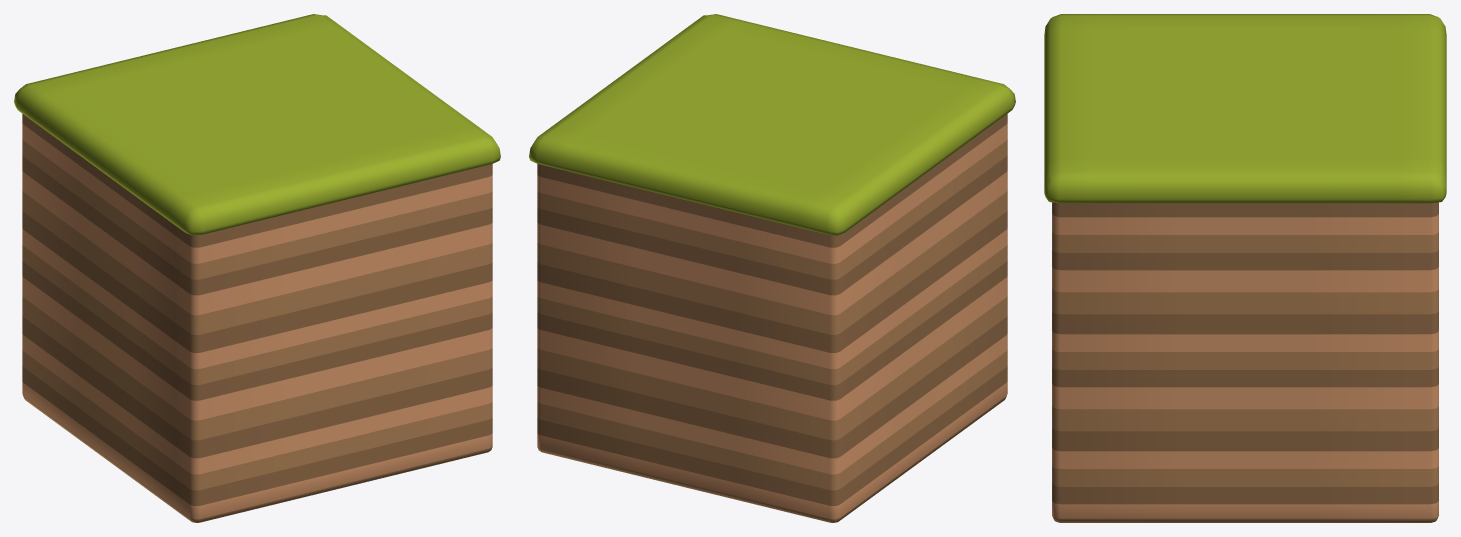
Rendered from Cube_Grass_Side_Tall_004.gltf.
The picture shows the model from 3 angles, left to right: view 1: azimuth 30°, elevation 25°; view 2: azimuth 150°, elevation 25°; view 3: azimuth 270°, elevation 25°; orthographic projection. The views are drawn at different scales.
Visible parts, largest first — view 1: Cube_Grass_Side_Tall.004; view 2: Cube_Grass_Side_Tall.004; view 3: Cube_Grass_Side_Tall.004.
Boxes of the visible parts, x1,y1,x2,y2 form: Cube_Grass_Side_Tall.004: (14,14,500,522); Cube_Grass_Side_Tall.004: (529,14,1015,522); Cube_Grass_Side_Tall.004: (1044,14,1446,522).
Size of the model in its own units: 6.23 by 6 by 6.23.
